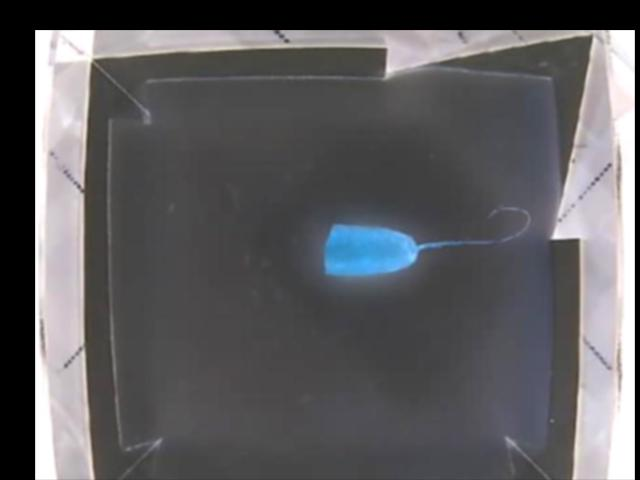Carrot: (320, 218, 424, 277)
